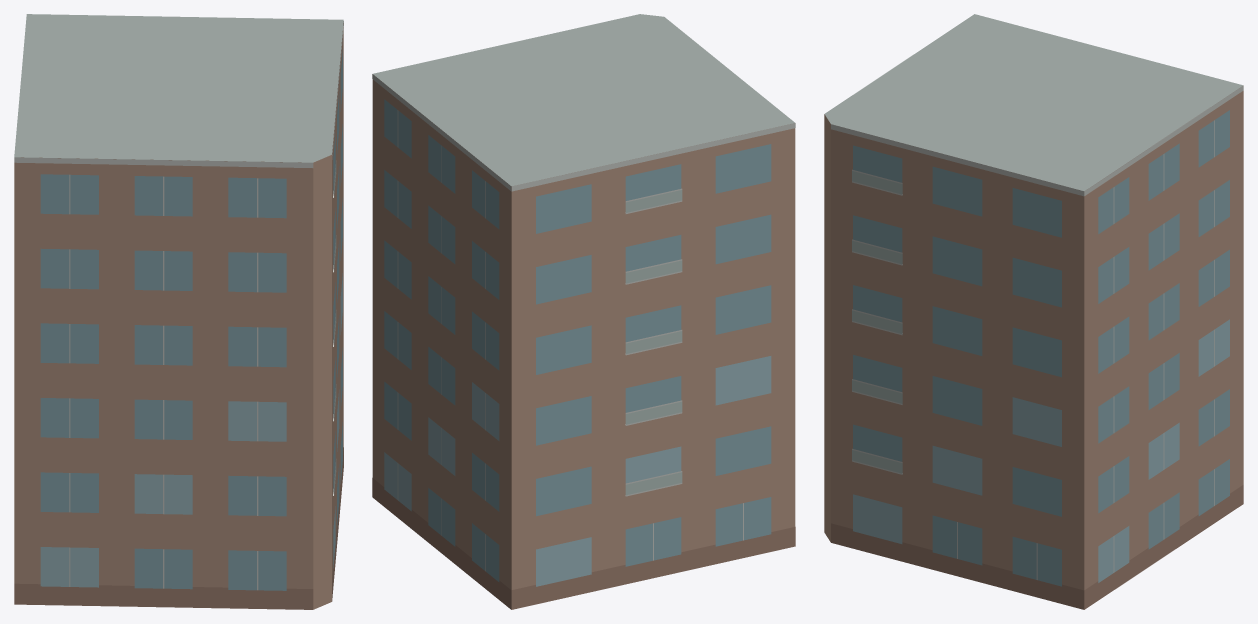
The model's file is survey-upis-32998559.glb.
The picture shows the model from 3 angles, left to right: view 1: azimuth 30°, elevation 25°; view 2: azimuth 150°, elevation 25°; view 3: azimuth 270°, elevation 25°; orthographic projection. The views are drawn at different scales.
Visible parts, largest first — view 1: survey-upis-32998559.tmp; view 2: survey-upis-32998559.tmp; view 3: survey-upis-32998559.tmp.
Boxes of the visible parts, left/top/right/bottom form: survey-upis-32998559.tmp: left=14, top=14, right=343, bottom=609; survey-upis-32998559.tmp: left=372, top=14, right=795, bottom=609; survey-upis-32998559.tmp: left=824, top=14, right=1243, bottom=609.
Bounding box in the file's own units: 18.04 × 19.85 × 18.03.
